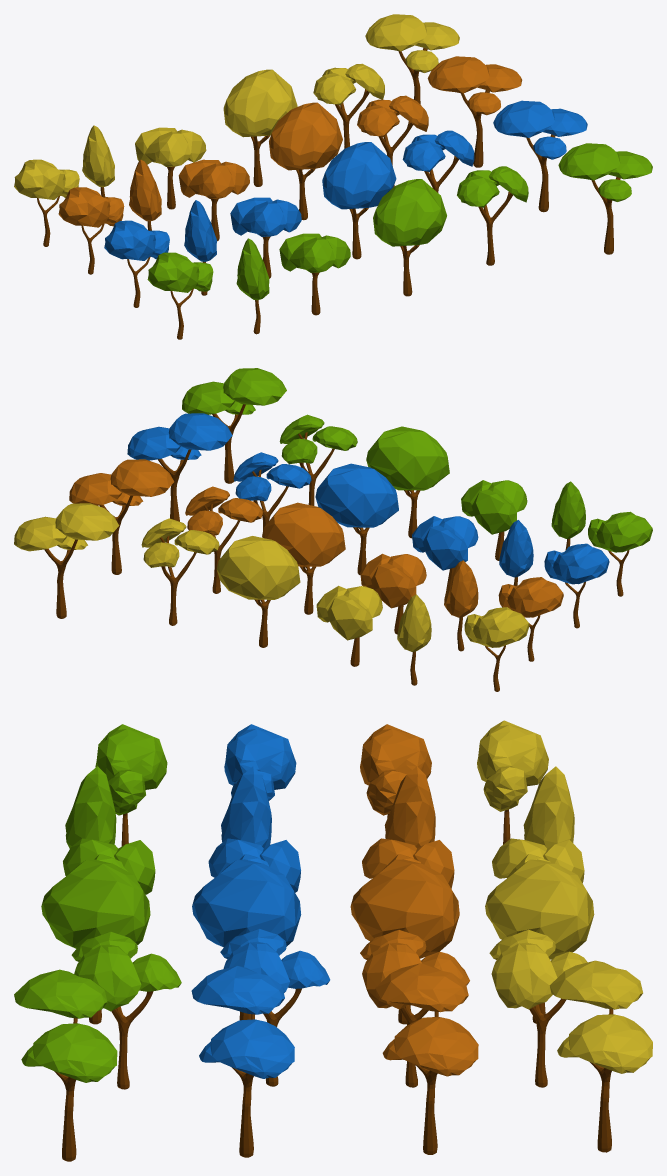
File: Lowpoly_Trees_Collection.fbx
3 renders of one model, top to bottom at view 1: azimuth 30°, elevation 25°; view 2: azimuth 150°, elevation 25°; view 3: azimuth 270°, elevation 25°, orthographic. The views are drawn at different scales.
Parts seen in each view (by area): view 1: Lowpolytree_4_green, Lowpolytree_4_orange, Lowpolytree_4_blue, Lowpolytree_4_yellow, Lowpolytree_6_blue, Lowpolytree_6_green, Lowpolytree_6_orange, Lowpolytree_6_yellow, Lowpolytree_03_green, Lowpolytree_03_yellow, Lowpolytree_5_green, Lowpolytree_03_blue (+12 smaller); view 2: Lowpolytree_4_yellow, Lowpolytree_4_blue, Lowpolytree_4_green, Lowpolytree_6_yellow, Lowpolytree_4_orange, Lowpolytree_6_blue, Lowpolytree_6_green, Lowpolytree_6_orange, Lowpolytree_5_yellow, Lowpolytree_03_yellow, Lowpolytree_03_green, Lowpolytree_5_green (+12 smaller); view 3: Lowpolytree_6_blue, Lowpolytree_6_yellow, Lowpolytree_6_orange, Lowpolytree_6_green, Lowpolytree_4_yellow, Lowpolytree_4_orange, Lowpolytree_4_green, Lowpolytree_4_blue, Lowpolytree_5_green, Lowpolytree_5_yellow, Lowpolytree_01_yellow, Lowpolytree_01_green (+12 smaller).
Part boxes in pixels (x1=…): Lowpolytree_4_green: x1=373, y1=179, x2=446, y2=296; Lowpolytree_4_orange: x1=269, y1=102, x2=342, y2=220; Lowpolytree_4_blue: x1=322, y1=142, x2=396, y2=259; Lowpolytree_4_yellow: x1=223, y1=69, x2=297, y2=186; Lowpolytree_6_blue: x1=493, y1=100, x2=587, y2=212; Lowpolytree_6_green: x1=558, y1=143, x2=652, y2=254; Lowpolytree_6_orange: x1=427, y1=56, x2=522, y2=167; Lowpolytree_6_yellow: x1=365, y1=14, x2=459, y2=125; Lowpolytree_03_green: x1=279, y1=233, x2=350, y2=315; Lowpolytree_03_yellow: x1=135, y1=127, x2=206, y2=209; Lowpolytree_5_green: x1=457, y1=166, x2=528, y2=265; Lowpolytree_03_blue: x1=230, y1=197, x2=301, y2=278; Lowpolytree_4_yellow: x1=216, y1=536, x2=300, y2=647; Lowpolytree_4_blue: x1=315, y1=463, x2=398, y2=575; Lowpolytree_4_green: x1=366, y1=426, x2=449, y2=538; Lowpolytree_6_yellow: x1=14, y1=503, x2=119, y2=618; Lowpolytree_4_orange: x1=262, y1=502, x2=345, y2=614; Lowpolytree_6_blue: x1=127, y1=413, x2=232, y2=521; Lowpolytree_6_green: x1=182, y1=368, x2=286, y2=483; Lowpolytree_6_orange: x1=69, y1=459, x2=174, y2=574; Lowpolytree_5_yellow: x1=141, y1=518, x2=219, y2=625; Lowpolytree_03_yellow: x1=316, y1=585, x2=382, y2=666; Lowpolytree_03_green: x1=461, y1=480, x2=527, y2=560; Lowpolytree_5_green: x1=279, y1=414, x2=357, y2=505; Lowpolytree_6_blue: x1=191, y1=965, x2=294, y2=1157; Lowpolytree_6_yellow: x1=549, y1=960, x2=652, y2=1152; Lowpolytree_6_orange: x1=375, y1=963, x2=478, y2=1154; Lowpolytree_6_green: x1=14, y1=969, x2=117, y2=1161; Lowpolytree_4_yellow: x1=485, y1=859, x2=594, y2=1023; Lowpolytree_4_orange: x1=350, y1=859, x2=459, y2=1024; Lowpolytree_4_green: x1=41, y1=859, x2=150, y2=1024; Lowpolytree_4_blue: x1=192, y1=859, x2=301, y2=1020; Lowpolytree_5_green: x1=71, y1=931, x2=181, y2=1089; Lowpolytree_5_yellow: x1=489, y1=929, x2=587, y2=1087; Lowpolytree_01_yellow: x1=477, y1=720, x2=548, y2=844; Lowpolytree_01_green: x1=95, y1=724, x2=167, y2=846.
Size of the model in its own units: 7414 by 1669 by 5683.
